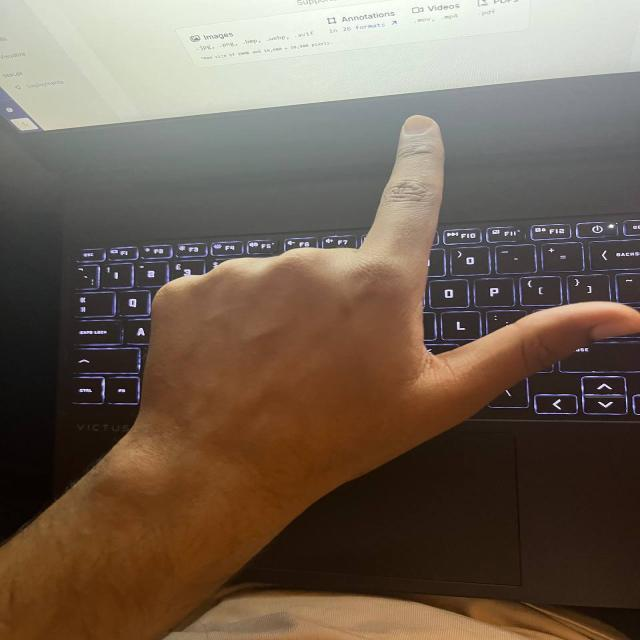hand thumb and index out: (136, 113, 637, 483)
